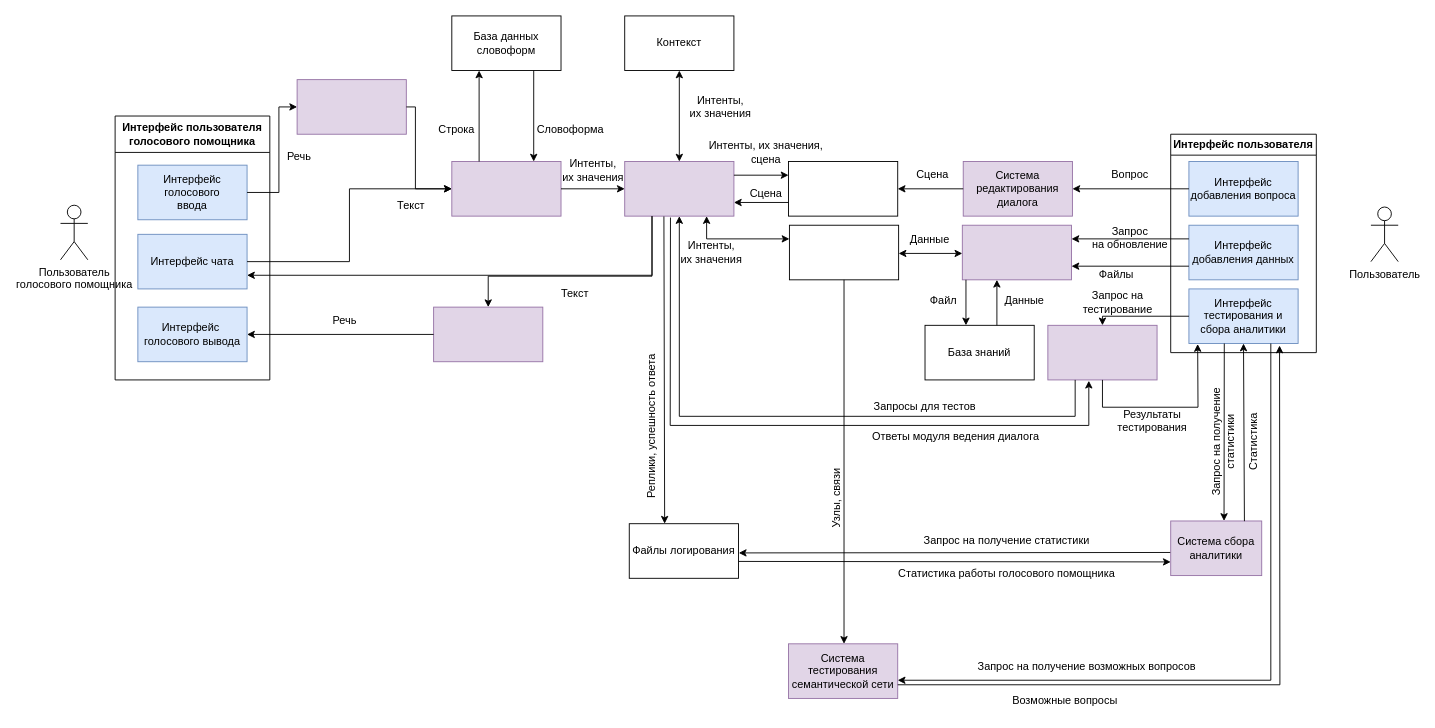
This 1435x728 diagram has some shape labels left out. The centre of each missing label's shape, as x and y in pixels:
"Дерево диалога" goes at (x=843, y=188).
"Семантическая сеть" goes at (x=844, y=252).
"Система автоматического тестирования" goes at (x=1102, y=352).
"Система анализа данных" goes at (x=1016, y=252).
"Система ведения диалога" goes at (x=679, y=188).
"Система выделения интентов" goes at (x=506, y=188).
"Система генерации голоса" goes at (x=488, y=334).
"Система распознавания голоса" goes at (x=351, y=106).
